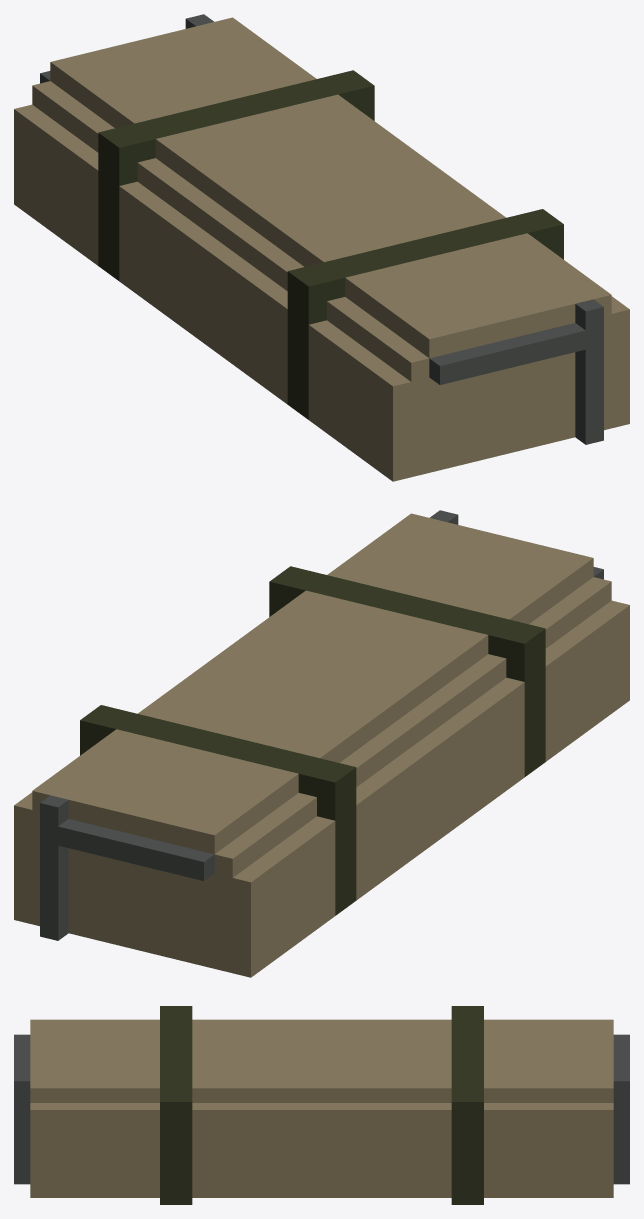
File: army_jeep_folded_canvas.glb
3 renders of one model, top to bottom at view 1: azimuth 30°, elevation 25°; view 2: azimuth 150°, elevation 25°; view 3: azimuth 270°, elevation 25°, orthographic. The views are drawn at different scales.
Visible parts, largest first — view 1: body:compound; view 2: body:compound; view 3: body:compound.
Part boxes in pixels (box(x1,y1,x2,y2)): body:compound: box(14, 14, 629, 481); body:compound: box(14, 510, 629, 977); body:compound: box(14, 1006, 629, 1204).
Size of the model in its own units: 0.4375 by 0.2188 by 1.19.
